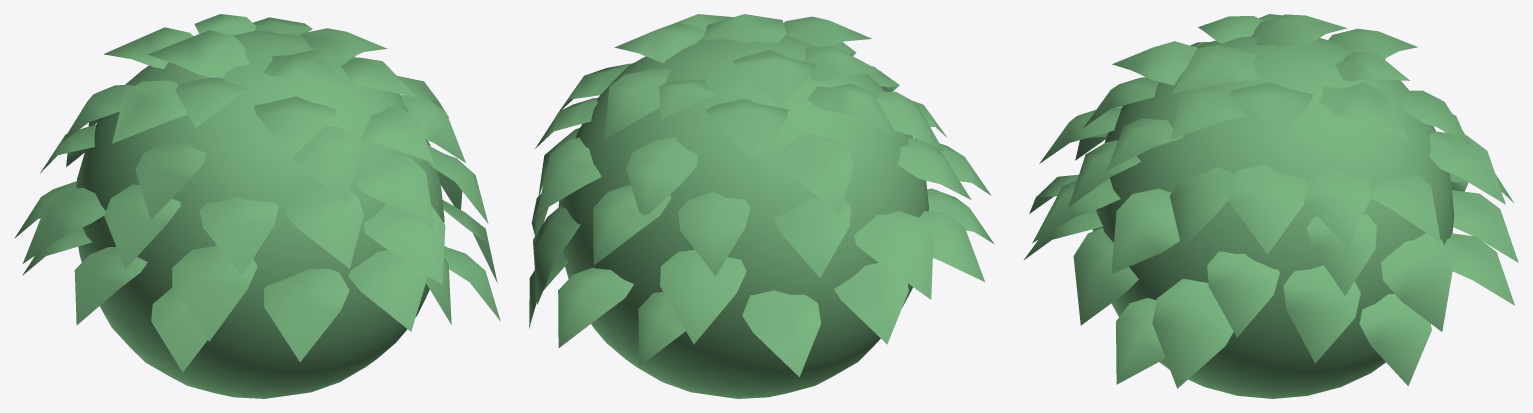
The model's file is busch2.fbx.
3 views of the same model, side by side, from view 1: azimuth 30°, elevation 25°; view 2: azimuth 150°, elevation 25°; view 3: azimuth 270°, elevation 25° (orthographic).
Visible parts, largest first — view 1: blätter_busch, Cube; view 2: blätter_busch, Cube; view 3: blätter_busch, Cube.
Boxes of the visible parts, x1,y1,x2,y2 form: blätter_busch: (14,14,500,372); Cube: (76,30,444,398); blätter_busch: (529,14,993,376); Cube: (558,35,928,398); blätter_busch: (1023,14,1518,388); Cube: (1092,36,1454,398).
Bounding box in the file's own units: 71.42 × 57.66 × 76.2.
